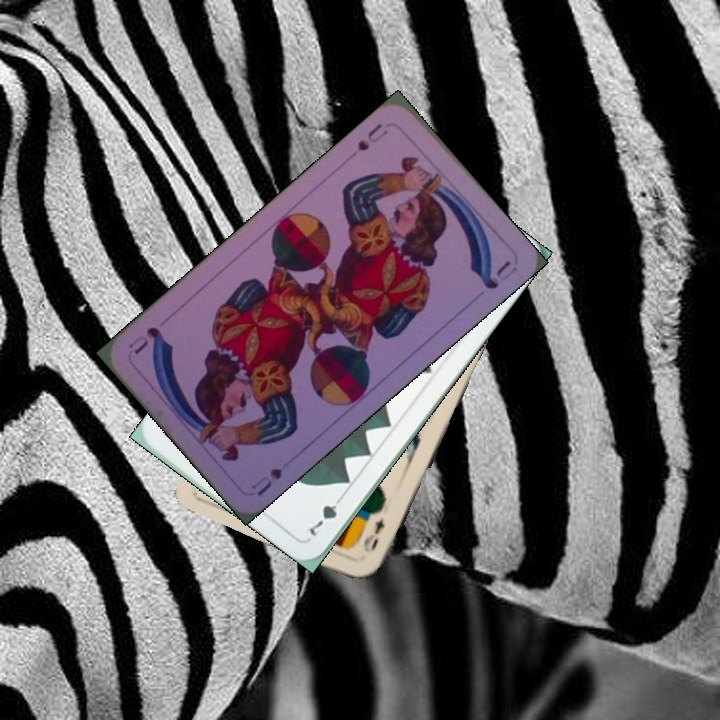EO: (359, 515, 388, 555)
G7: (303, 489, 347, 539)
SU: (344, 119, 391, 162), (247, 464, 285, 498)
